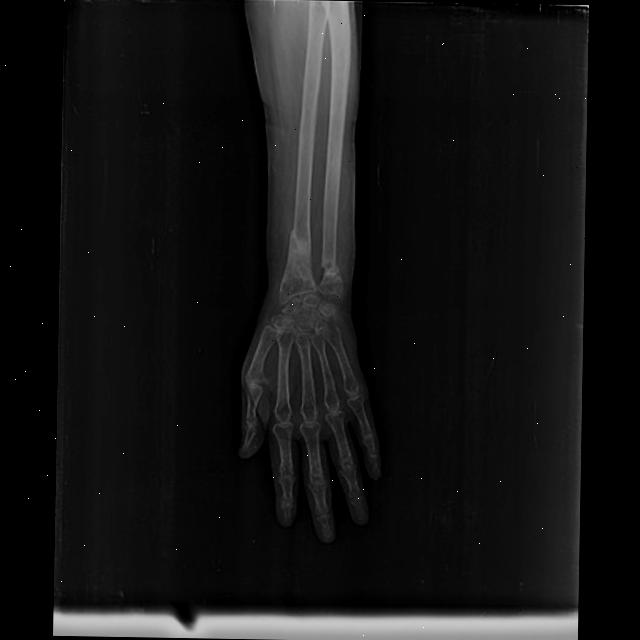Fracture: (289, 220, 311, 260), (319, 255, 343, 283)
